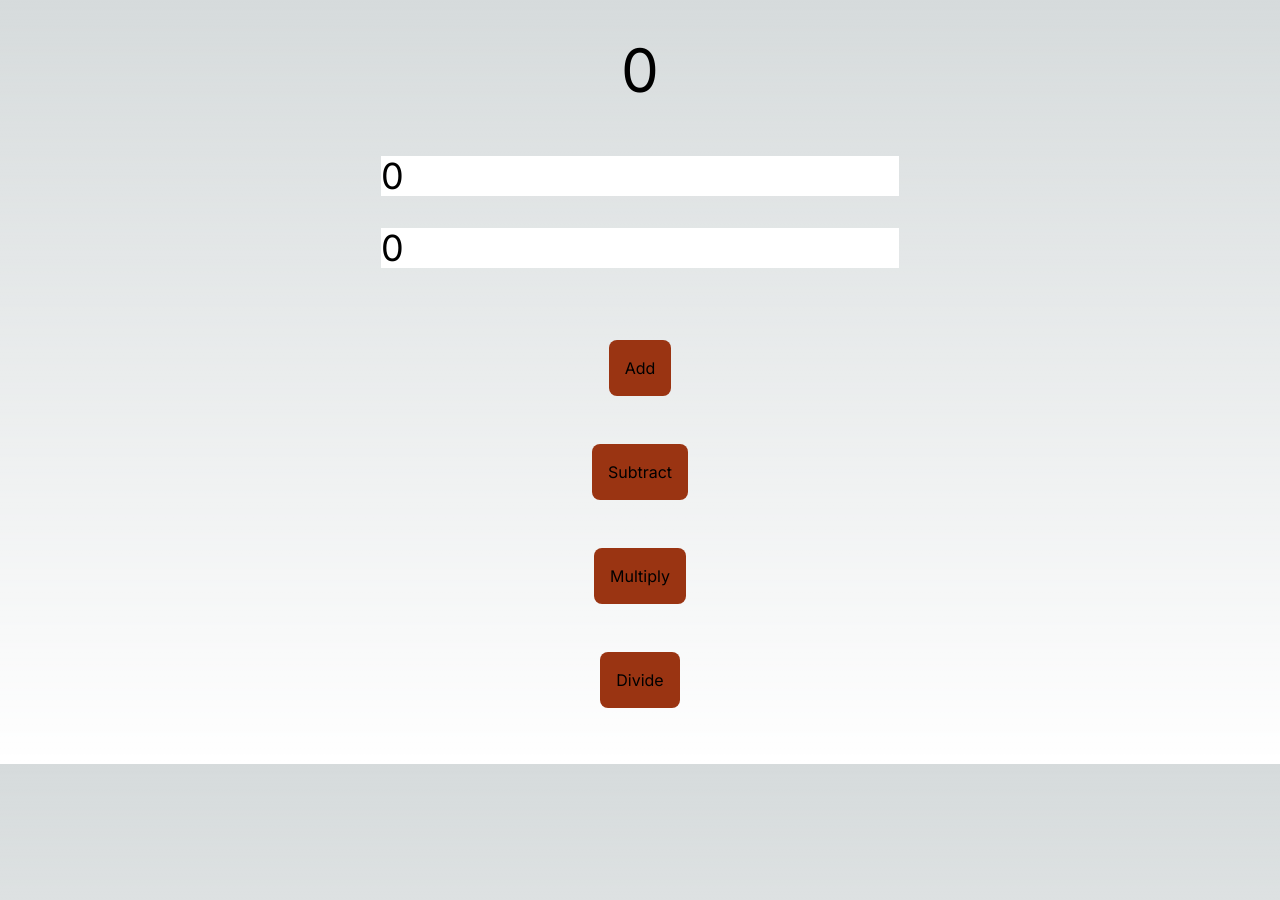
Calculator › multiplies numbers
Replace the text in the number field with test id "num1" with "8". click: (640, 176)
box: [381, 156, 899, 196]
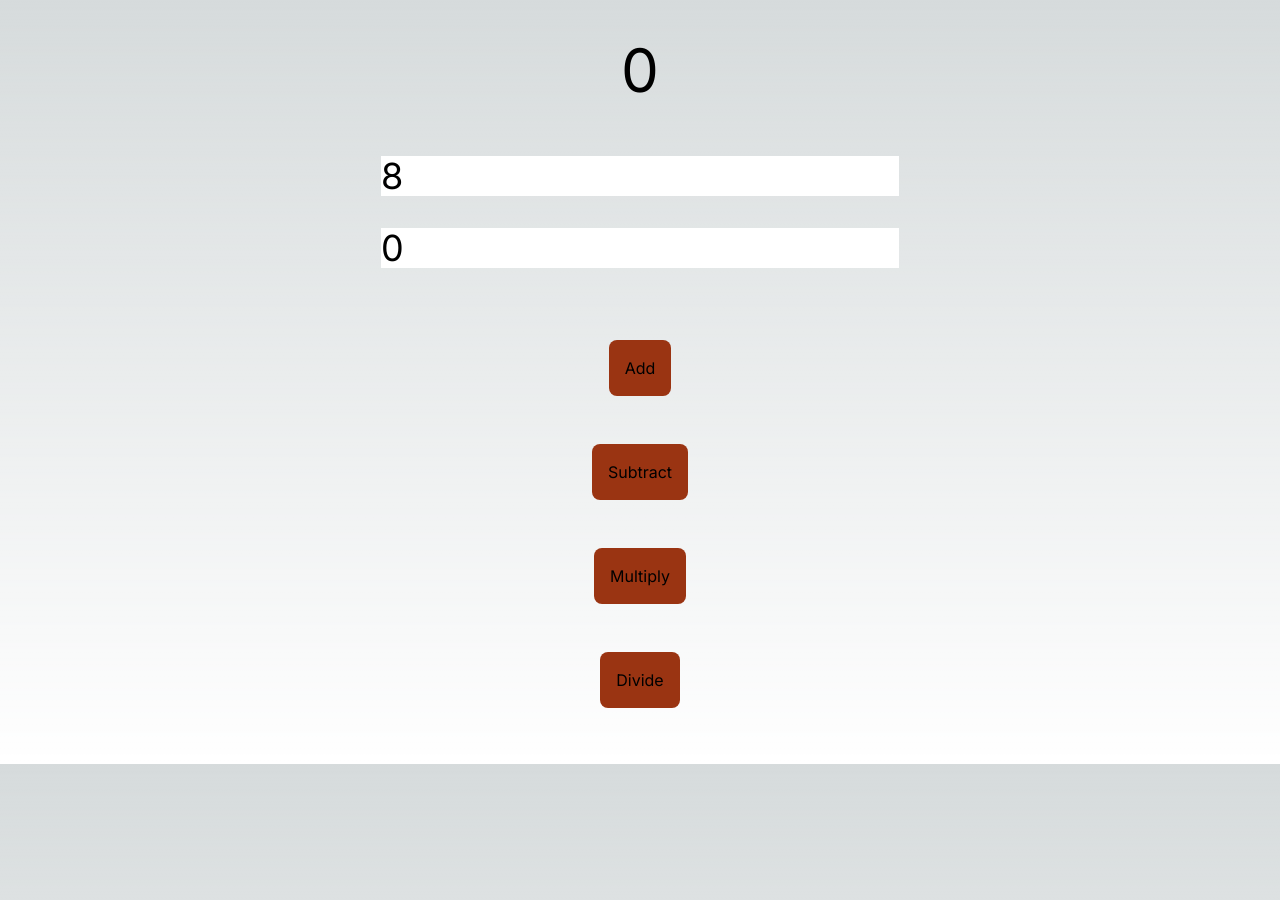
Replace the text in the number field with test id "num2" with "5". click: (640, 248)
box: [381, 228, 899, 268]
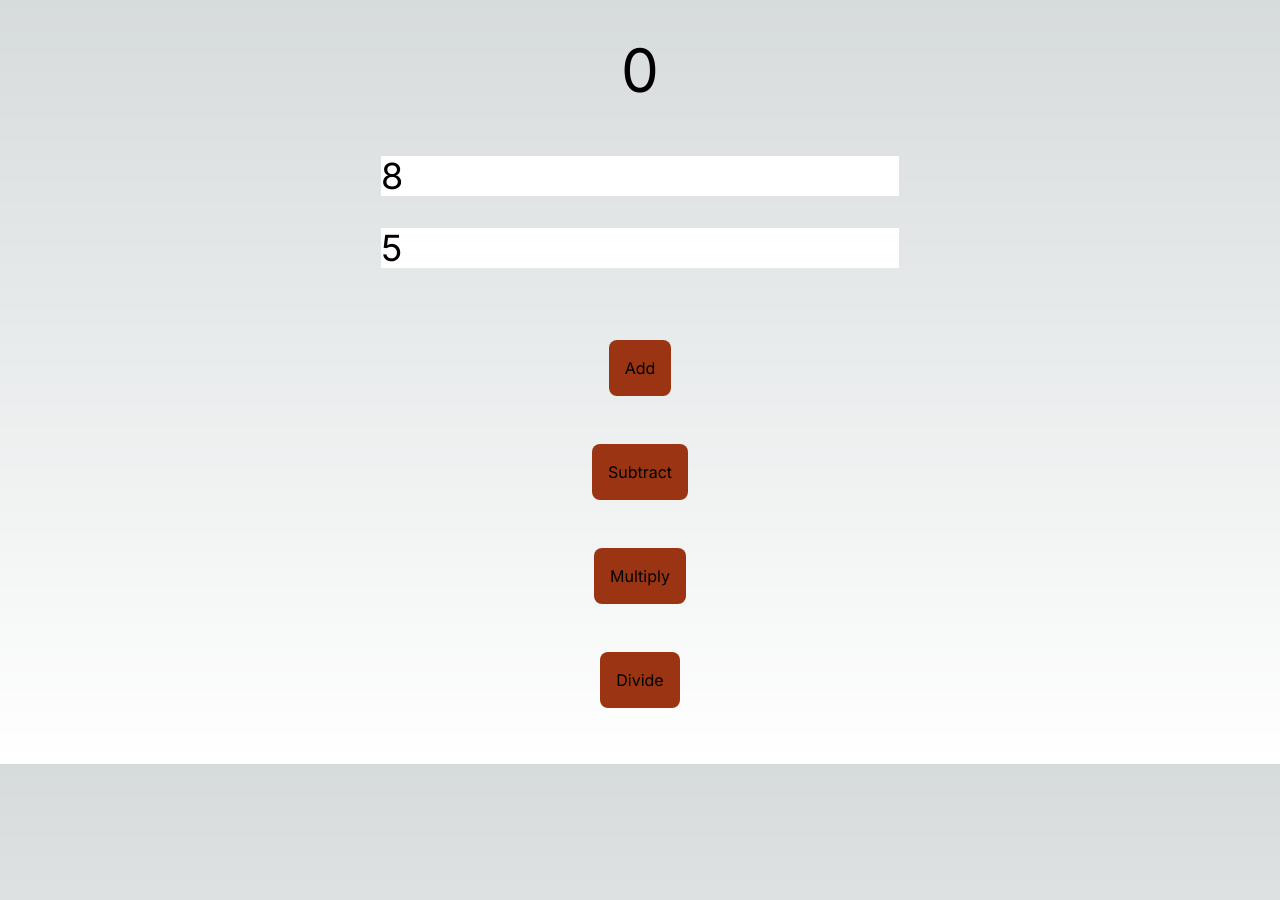
Click the button with test id "multiply". click: (640, 576)
box: [610, 564, 670, 588]
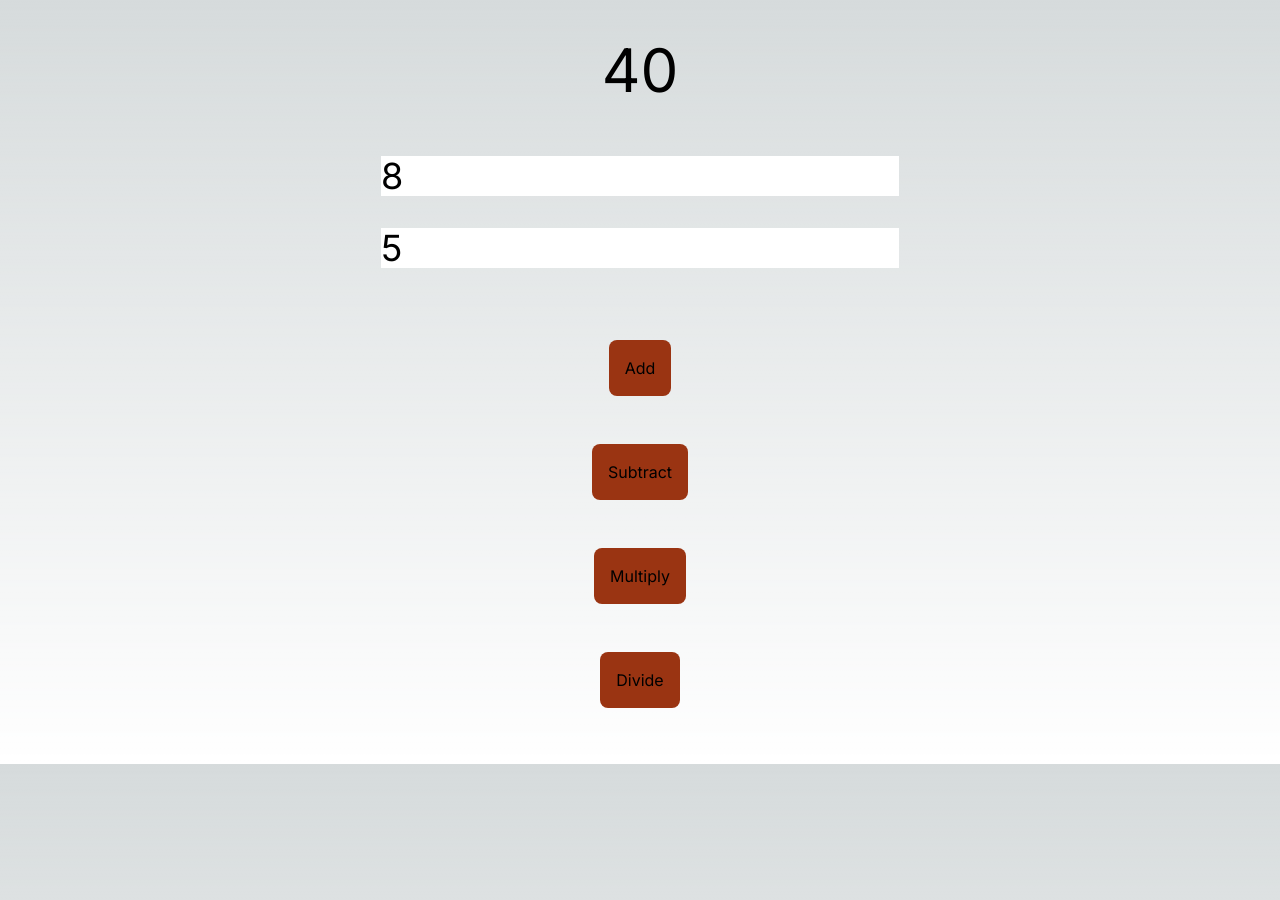
Check: the text with test id "result" reads "40", box [602, 34, 678, 106]
